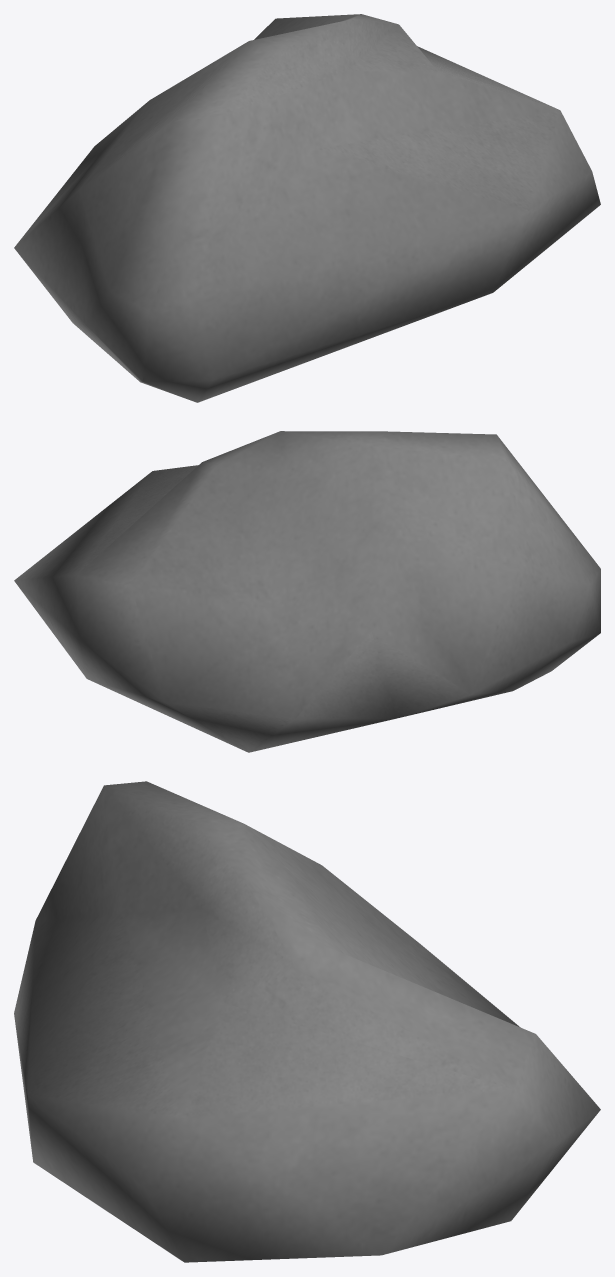
Rendered from Stone_2.fbx.
The picture shows the model from 3 angles, top to bottom: view 1: azimuth 30°, elevation 25°; view 2: azimuth 150°, elevation 25°; view 3: azimuth 270°, elevation 25°; orthographic projection. The views are drawn at different scales.
Parts seen in each view (by area): view 1: Stone_2; view 2: Stone_2; view 3: Stone_2.
Part boxes in pixels (x1=…): Stone_2: x1=14, y1=14, x2=600, y2=402; Stone_2: x1=14, y1=431, x2=600, y2=752; Stone_2: x1=14, y1=781, x2=600, y2=1262.
Size of the model in its own units: 2.12 by 1.01 by 1.69.
